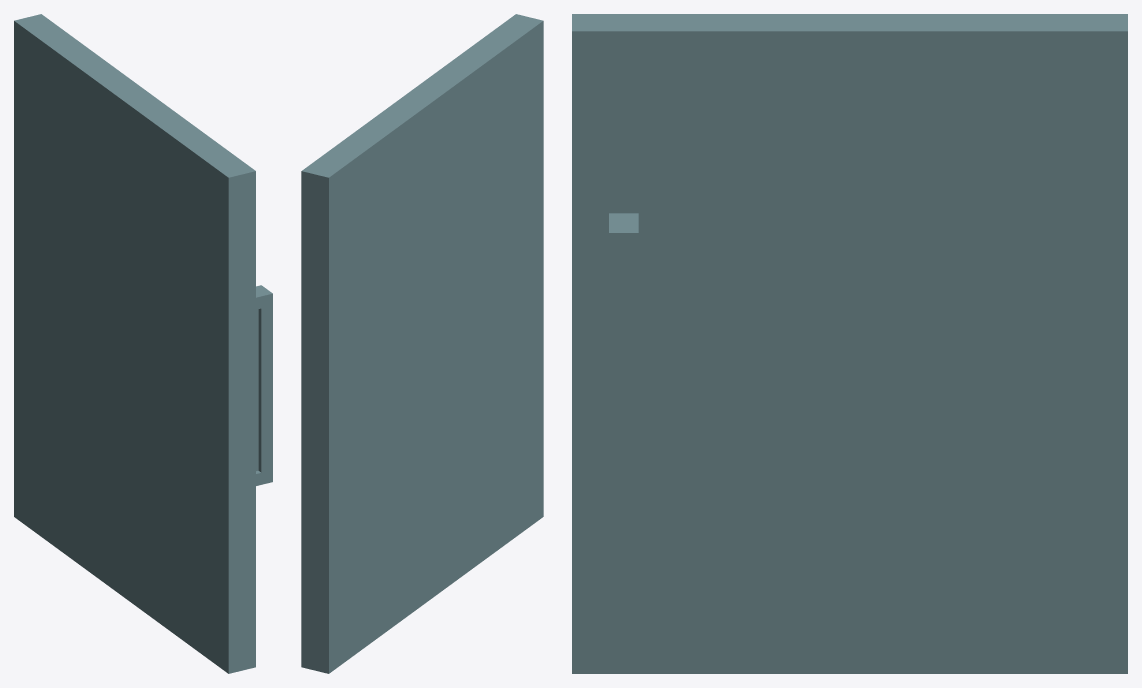
Rendered from Cabinet_Big_Door.005.fbx.
3 renders of one model, left to right at view 1: azimuth 30°, elevation 25°; view 2: azimuth 150°, elevation 25°; view 3: azimuth 270°, elevation 25°, orthographic. The views are drawn at different scales.
Visible parts, largest first — view 1: Cabinet_Big_Door.005; view 2: Cabinet_Big_Door.005; view 3: Cabinet_Big_Door.005.
Boxes of the visible parts, box(x1,y1,x2,y2) form: Cabinet_Big_Door.005: box(14, 14, 272, 673); Cabinet_Big_Door.005: box(301, 14, 543, 673); Cabinet_Big_Door.005: box(572, 14, 1127, 673).
Bounding box in the file's own units: 7.35 × 59.46 × 46.62.
